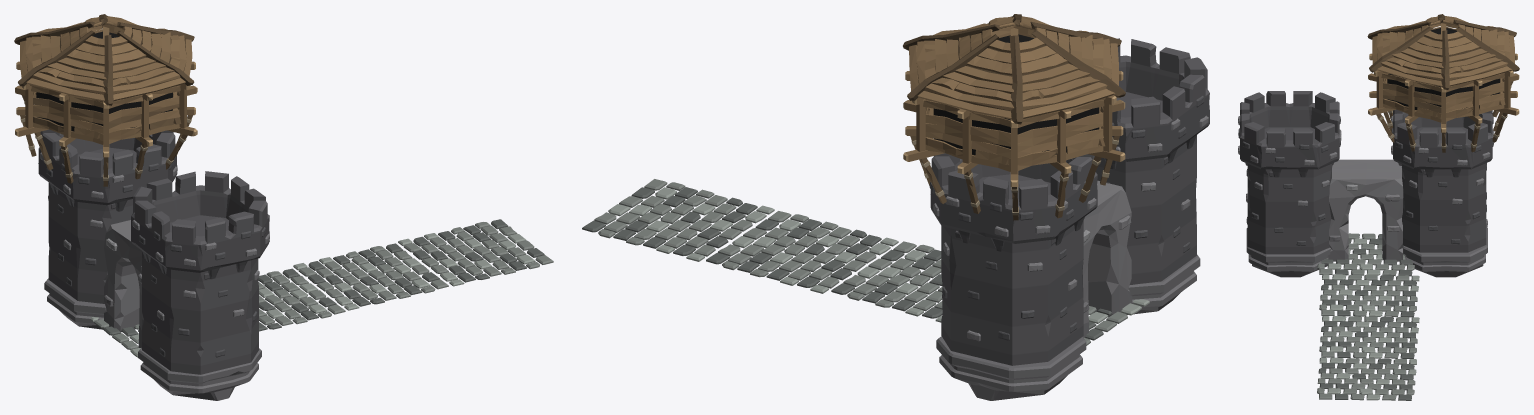
Rendered from castle.glb.
The picture shows the model from 3 angles, left to right: view 1: azimuth 30°, elevation 25°; view 2: azimuth 150°, elevation 25°; view 3: azimuth 270°, elevation 25°; orthographic projection. The views are drawn at different scales.
Visible parts, largest first — view 1: SM_Bld_Castle_Wood_Battlement_01, SM_Bld_Castle_Tower_03, SM_Bld_Castle_Tower_Top_01, SM_Bld_Castle_Tower_Top_01.001, SM_Bld_Castle_Tower_03.001, SM_Env_Path_Cobble_01.002, SM_Env_Path_Cobble_01.003, SM_Bld_Rockwall_Archway_01, SM_Env_Path_Cobble_01.001, SM_Bld_Castle_Tower_Base_01, SM_Bld_Castle_Tower_Base_01.001, SM_Env_Path_Cobble_01; view 2: SM_Bld_Castle_Wood_Battlement_01, SM_Bld_Castle_Tower_03.001, SM_Bld_Castle_Tower_Top_01.001, SM_Bld_Castle_Tower_Top_01, SM_Bld_Castle_Tower_03, SM_Env_Path_Cobble_01.002, SM_Env_Path_Cobble_01.003, SM_Bld_Rockwall_Archway_01, SM_Env_Path_Cobble_01.001, SM_Bld_Castle_Tower_Base_01.001, SM_Bld_Castle_Tower_Base_01, SM_Env_Path_Cobble_01; view 3: SM_Bld_Castle_Wood_Battlement_01, SM_Bld_Castle_Tower_Top_01, SM_Bld_Castle_Tower_03, SM_Bld_Castle_Tower_03.001, SM_Bld_Rockwall_Archway_01, SM_Bld_Castle_Tower_Top_01.001, SM_Env_Path_Cobble_01.003, SM_Env_Path_Cobble_01.001, SM_Env_Path_Cobble_01.002, SM_Env_Path_Cobble_01, SM_Bld_Castle_Tower_Base_01.001, SM_Bld_Castle_Tower_Base_01.
Boxes of the visible parts, left/top/right/bottom form: SM_Bld_Castle_Wood_Battlement_01: left=14, top=14, right=197, bottom=186; SM_Bld_Castle_Tower_03: left=141, top=251, right=259, bottom=374; SM_Bld_Castle_Tower_Top_01: left=131, top=171, right=269, bottom=279; SM_Bld_Castle_Tower_Top_01.001: left=38, top=129, right=177, bottom=211; SM_Bld_Castle_Tower_03.001: left=48, top=182, right=132, bottom=303; SM_Env_Path_Cobble_01.002: left=293, top=243, right=448, bottom=310; SM_Env_Path_Cobble_01.003: left=398, top=219, right=553, bottom=286; SM_Bld_Rockwall_Archway_01: left=104, top=220, right=142, bottom=347; SM_Env_Path_Cobble_01.001: left=258, top=268, right=345, bottom=331; SM_Bld_Castle_Tower_Base_01: left=138, top=347, right=261, bottom=400; SM_Bld_Castle_Tower_Base_01.001: left=44, top=278, right=134, bottom=332; SM_Env_Path_Cobble_01: left=90, top=316, right=140, bottom=357; SM_Bld_Castle_Wood_Battlement_01: left=903, top=14, right=1125, bottom=220; SM_Bld_Castle_Tower_03.001: left=941, top=220, right=1083, bottom=365; SM_Bld_Castle_Tower_Top_01.001: left=929, top=153, right=1097, bottom=251; SM_Bld_Castle_Tower_Top_01: left=1104, top=38, right=1209, bottom=169; SM_Bld_Castle_Tower_03: left=1095, top=136, right=1196, bottom=284; SM_Env_Path_Cobble_01.002: left=706, top=211, right=898, bottom=293; SM_Env_Path_Cobble_01.003: left=582, top=179, right=774, bottom=261; SM_Bld_Rockwall_Archway_01: left=1082, top=180, right=1132, bottom=337; SM_Env_Path_Cobble_01.001: left=831, top=241, right=942, bottom=322; SM_Bld_Castle_Tower_Base_01.001: left=936, top=336, right=1086, bottom=400; SM_Bld_Castle_Tower_Base_01: left=1094, top=254, right=1200, bottom=317; SM_Env_Path_Cobble_01: left=1083, top=299, right=1149, bottom=345; SM_Bld_Castle_Wood_Battlement_01: left=1367, top=14, right=1519, bottom=152; SM_Bld_Castle_Tower_Top_01: left=1238, top=91, right=1341, bottom=177; SM_Bld_Castle_Tower_03: left=1246, top=163, right=1332, bottom=254; SM_Bld_Castle_Tower_03.001: left=1401, top=163, right=1487, bottom=252; SM_Bld_Rockwall_Archway_01: left=1328, top=159, right=1403, bottom=261; SM_Bld_Castle_Tower_Top_01.001: left=1391, top=109, right=1494, bottom=177; SM_Env_Path_Cobble_01.003: left=1317, top=357, right=1416, bottom=400; SM_Env_Path_Cobble_01.001: left=1319, top=274, right=1419, bottom=317; SM_Env_Path_Cobble_01.002: left=1319, top=316, right=1419, bottom=358; SM_Env_Path_Cobble_01: left=1317, top=233, right=1414, bottom=276; SM_Bld_Castle_Tower_Base_01.001: left=1402, top=227, right=1487, bottom=277; SM_Bld_Castle_Tower_Base_01: left=1246, top=228, right=1331, bottom=277.
Size of what is drawn, in the model's own units: 13.73 by 8.15 by 8.68.
7 materials, 7 textured.
